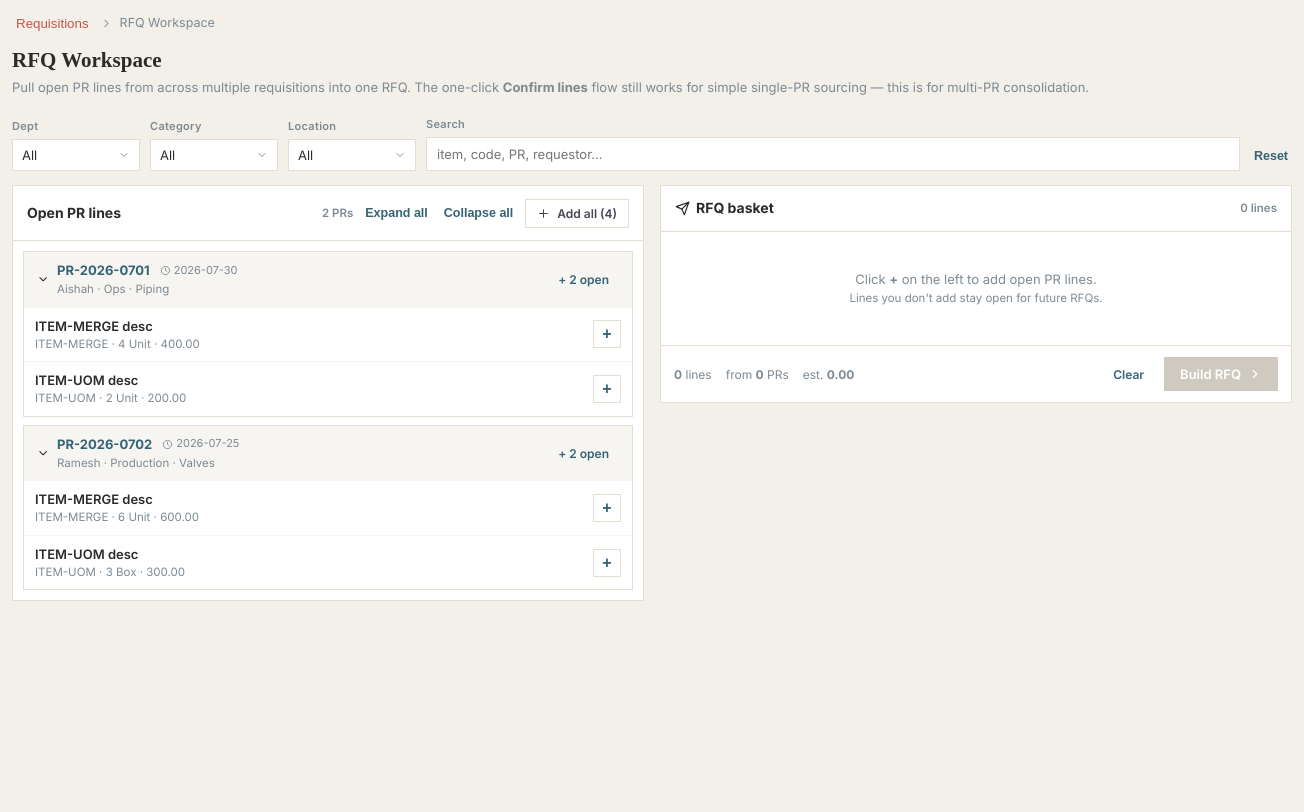
it: Consolidate Lines (Slice C) › D3 — same item code + different UoM auto keep-separate with a note
Click the button named "Add ITEM-UOM from PR-2026-0701" at coordinates (607, 389), box [593, 375, 621, 403]
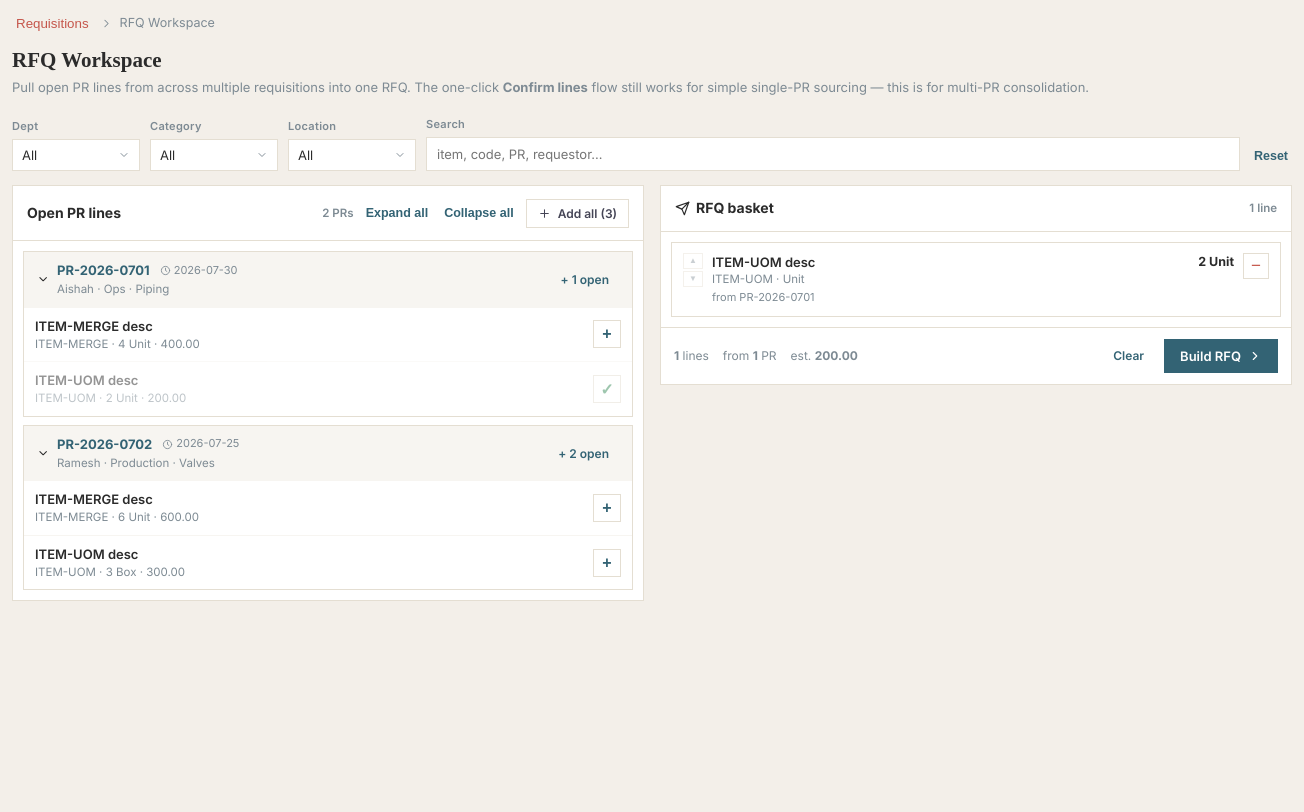
Click the button named "Add ITEM-UOM from PR-2026-0702" at coordinates (607, 562), box [593, 548, 621, 576]
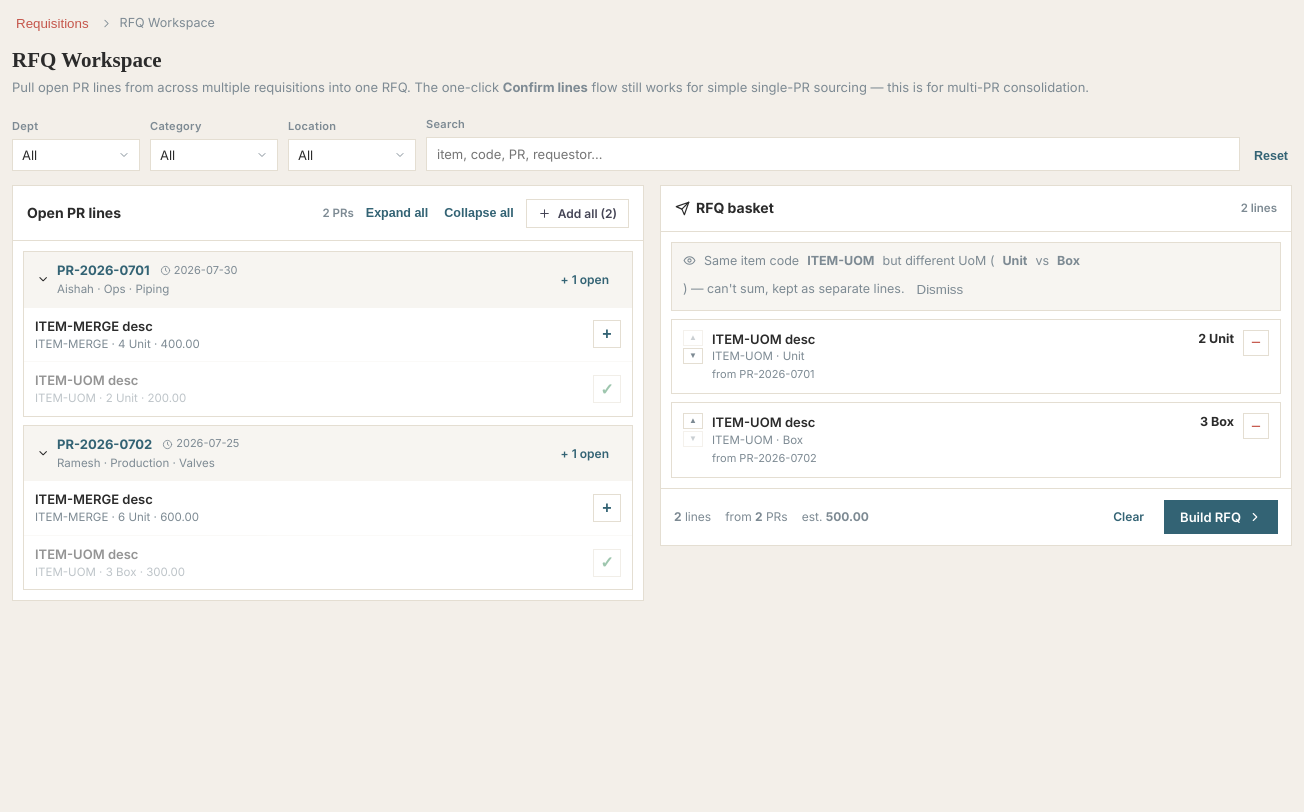
Expected: the text "from PR-2026-0701" is shown, [712, 367, 815, 381]
Expected: the text "different UoM" is shown, [882, 252, 994, 268]
Expected: the text "from PR-2026-0702" is shown, [712, 451, 817, 465]
